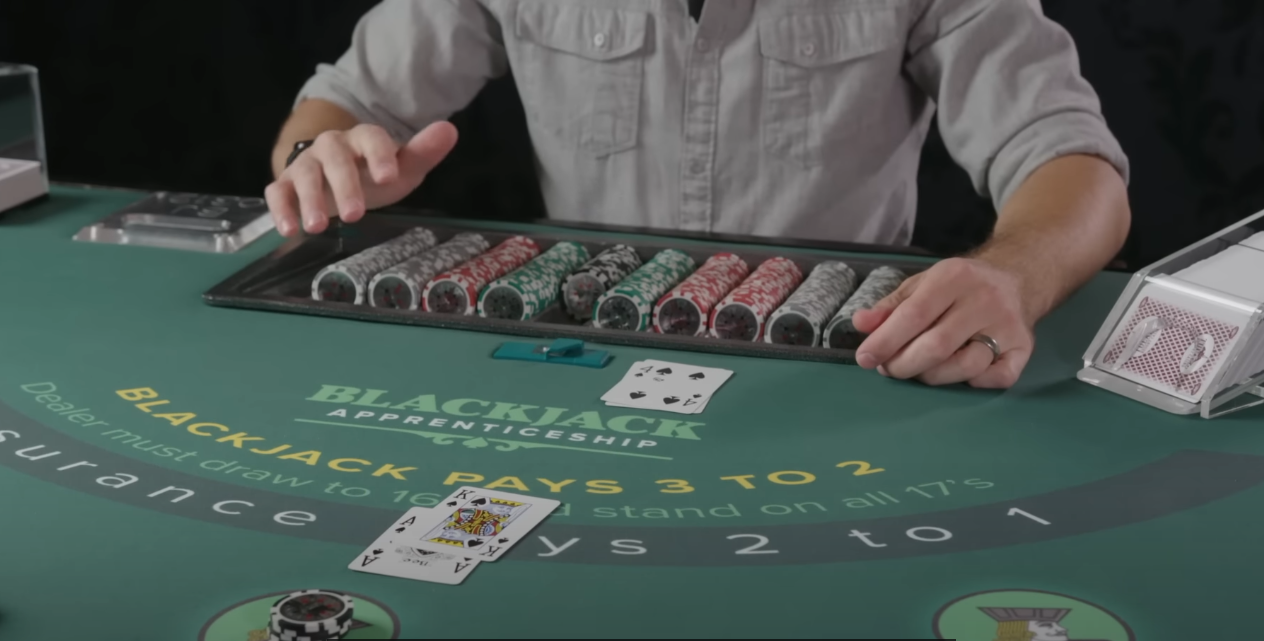4 Spades: (598, 362, 742, 415)
A Spades: (348, 505, 500, 587)
K Spades: (395, 485, 564, 563)
